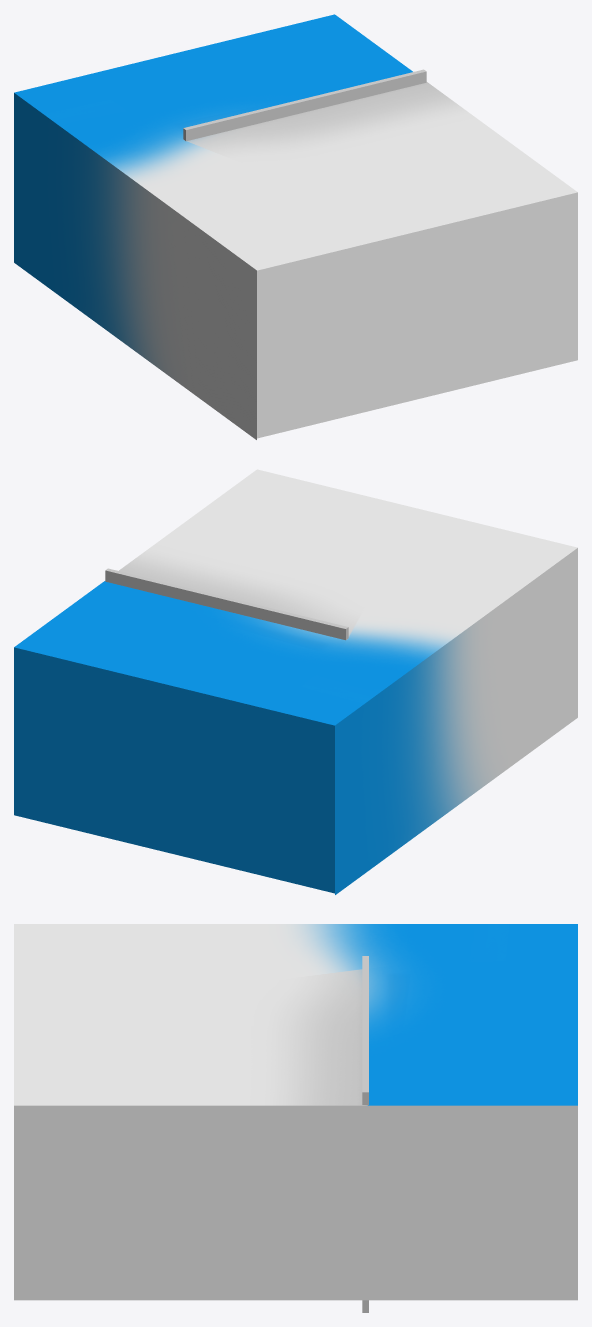
Rendered from FDP_Room_addon.glb.
The picture shows the model from 3 angles, top to bottom: view 1: azimuth 30°, elevation 25°; view 2: azimuth 150°, elevation 25°; view 3: azimuth 270°, elevation 25°; orthographic projection. The views are drawn at different scales.
Parts seen in each view (by area): view 1: Plane.002, Plane.005, Plane.001, Plane.003; view 2: Plane.002, Plane.004, Plane.001, Plane.003; view 3: Plane.006, Plane.002, Plane.003.
Part boxes in pixels (x1,y1,x2,y2): Plane.002: (14,14,577,270); Plane.005: (257,192,577,438); Plane.001: (14,93,256,439); Plane.003: (183,69,426,141); Plane.002: (14,469,577,725); Plane.004: (14,647,334,893); Plane.001: (335,548,577,894); Plane.003: (105,568,348,640); Plane.006: (14,1105,577,1300); Plane.002: (14,924,577,1105); Plane.003: (362,956,368,1312).
Size of the model in its own units: 16 by 9.07 by 21.
3 materials, 3 textured.
